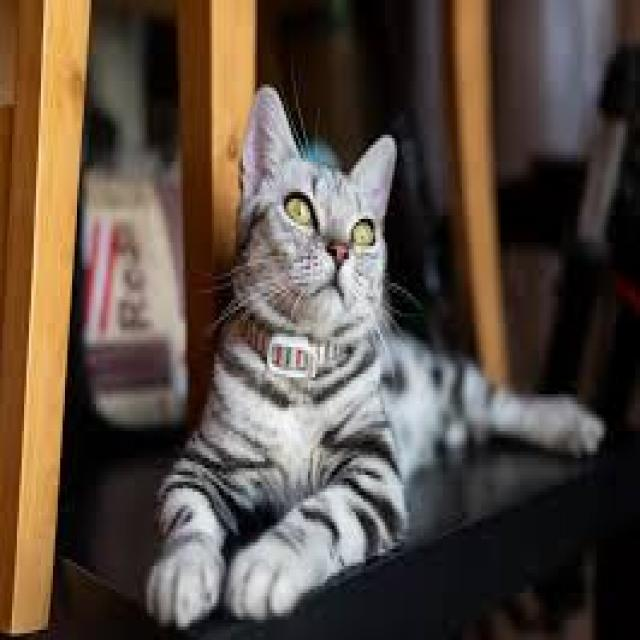Cat: (141, 83, 607, 632)
